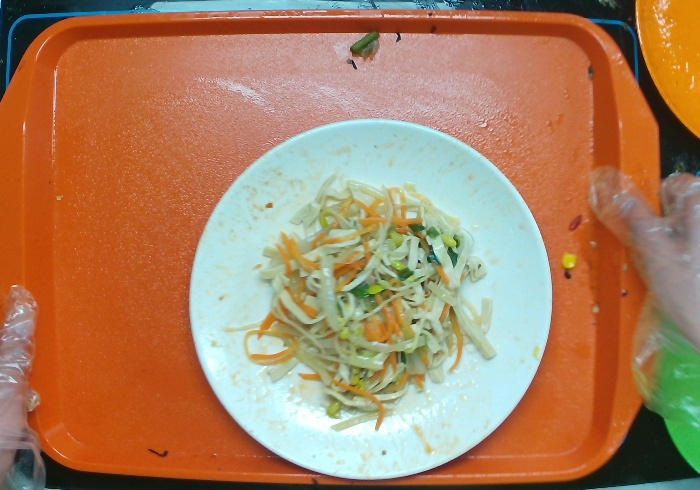HZYJPL-Bai_Se_Yuan_Pan: (186, 117, 554, 481)
